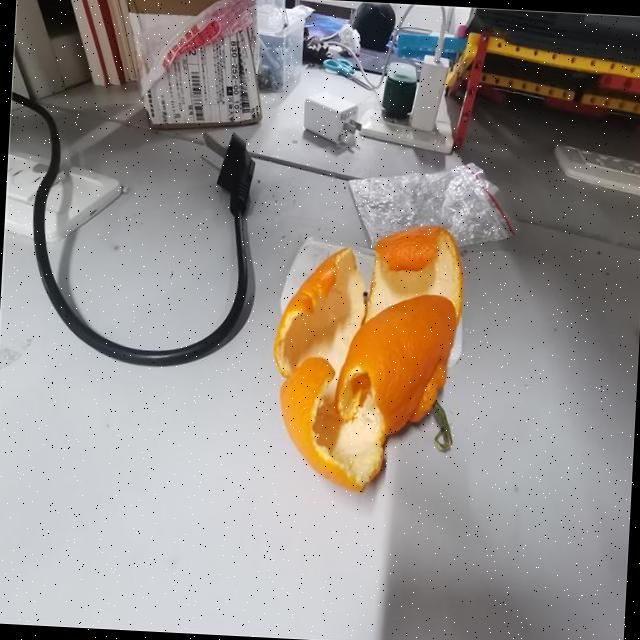orange-peel: (265, 216, 467, 497)
